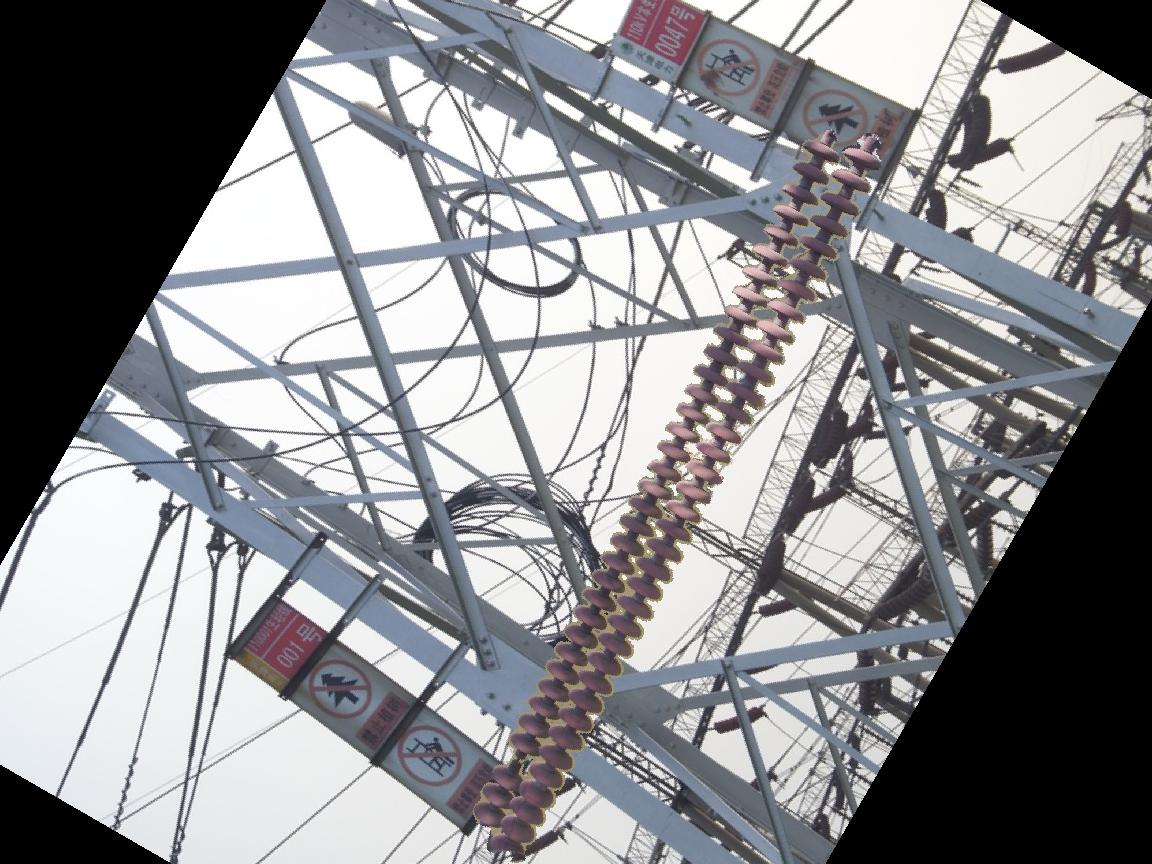insulator: (470, 127, 887, 859)
insulator_stringdrop: (487, 732, 544, 790)
